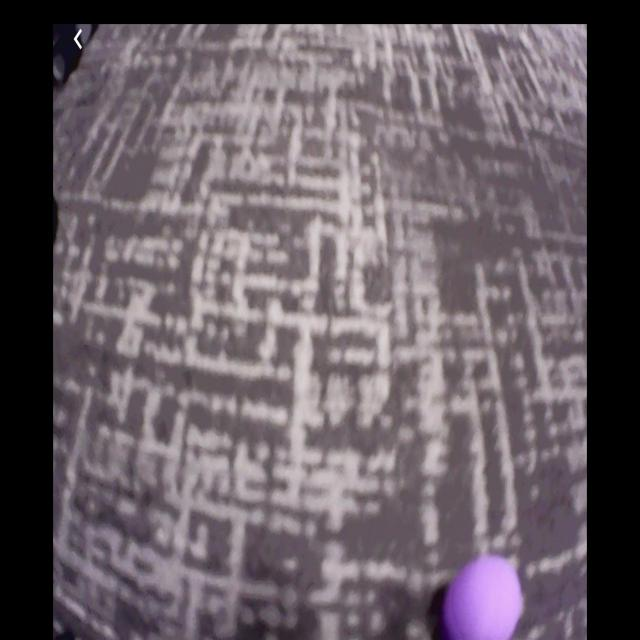ball: (445, 560, 525, 640)
